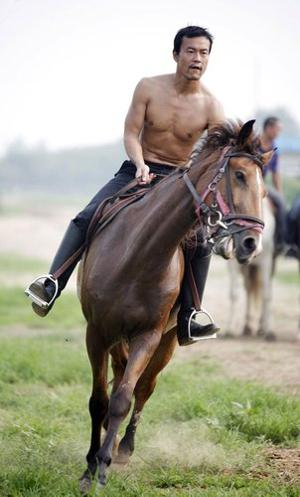person: (30, 26, 226, 349)
